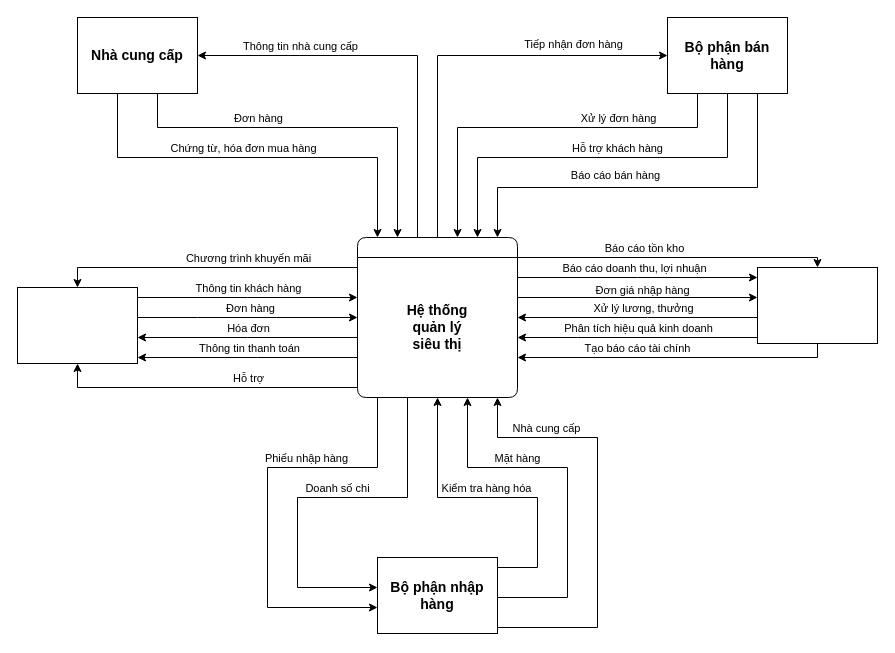
The diagram is 895 pixels wide and 653 high, and some of its shapes have lost their labels. Each missing label, with the centre of its shape:
Bộ phận quản lý: the point at 817,305
Khách hàng: the point at 77,325
